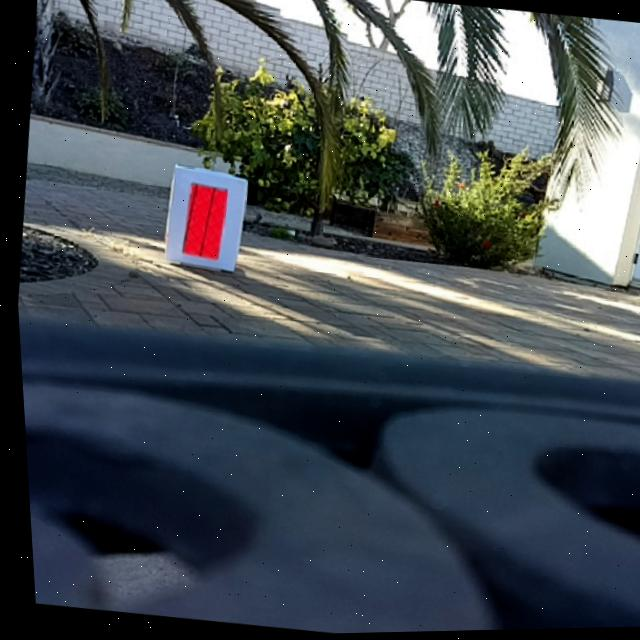led: (176, 180, 227, 261)
